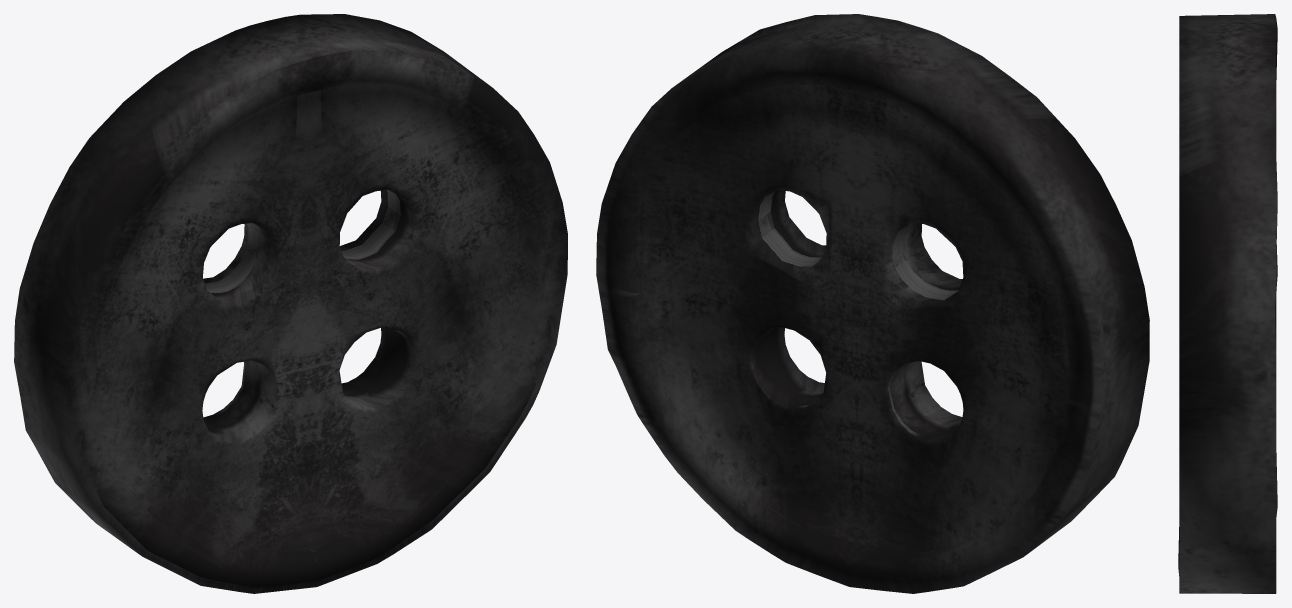
Rendered from Button.glb.
The picture shows the model from 3 angles, left to right: view 1: azimuth 30°, elevation 25°; view 2: azimuth 150°, elevation 25°; view 3: azimuth 270°, elevation 25°; orthographic projection.
Parts seen in each view (by area): view 1: export; view 2: export; view 3: export.
Part boxes in pixels (bbox=[...]): export: bbox=[14, 14, 567, 593]; export: bbox=[596, 14, 1149, 593]; export: bbox=[1178, 14, 1277, 593].
Size of the model in its own units: 0.9978 by 0.9992 by 0.1717.
1 material, 1 textured.
